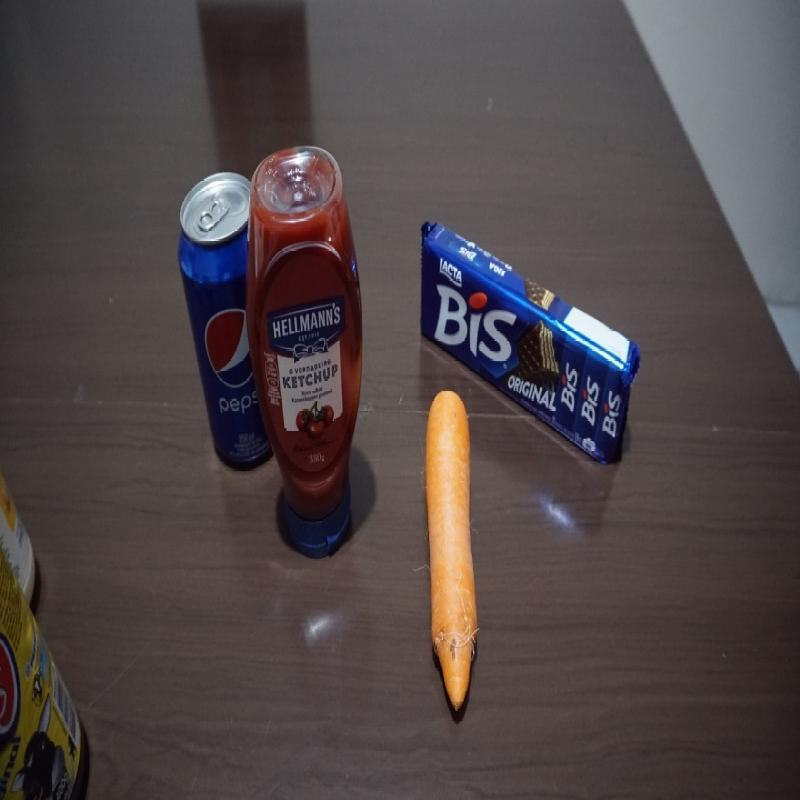Carrot: (424, 387, 478, 716)
Chocolate Powder: (0, 548, 94, 800)
Ketchup: (251, 150, 365, 558)
Soda can: (173, 172, 269, 471)
